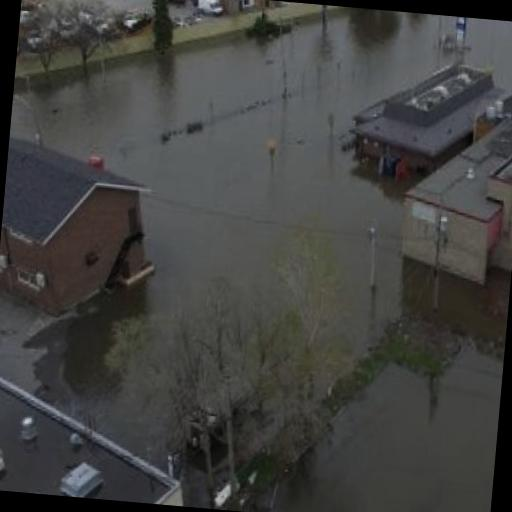flood: (10, 9, 512, 512)
house: (0, 134, 162, 321), (401, 93, 512, 293), (354, 54, 492, 174)
